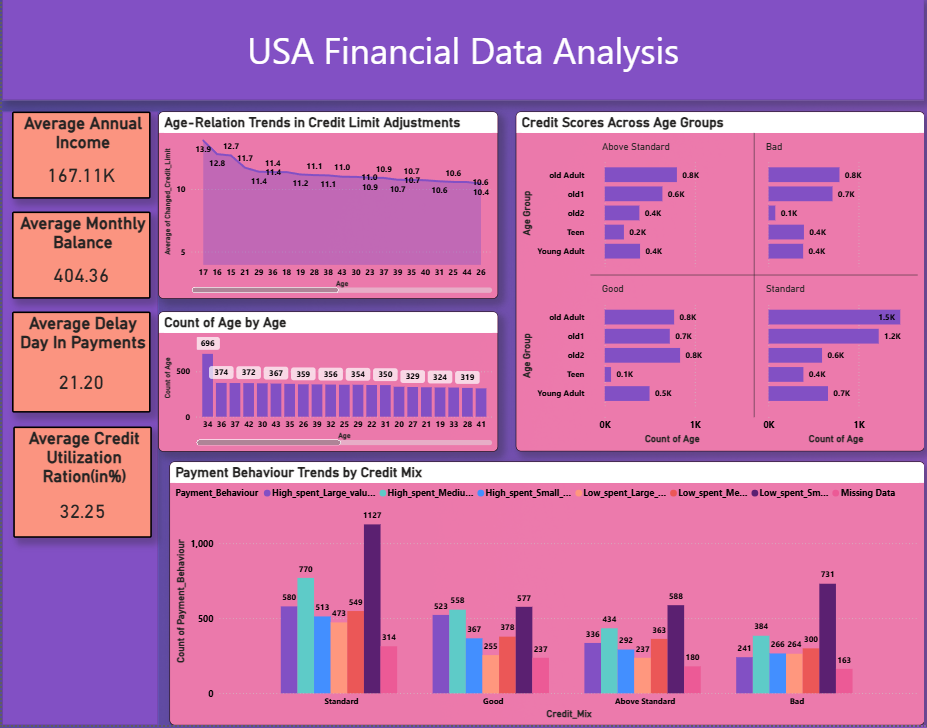

Layout of this report page (visuals, bound fields, positions):
{"tool":"powerbi","page":{"name":"Page 1","canvas":[1400,1100],"ordinal":0},"visuals":[{"type":"shape","box":[0,14.9,1378.7,151.3],"z":0},{"type":"shape","box":[0,183.1,233.5,917.3],"z":1000},{"type":"card","title":"Average Annual Income","fields":{"Values":["Avg(combined_df.Annual_Income)"]},"box":[14.9,183.1,207.4,130.8],"z":2000},{"type":"card","title":"Average Monthly Balance","fields":{"Values":["Avg(combined_df.Monthly_Balance)"]},"box":[14.9,332.5,207.4,130.8],"z":3000},{"type":"card","title":"Average Delay Day In Payments","fields":{"Values":["Avg(combined_df.Delay_from_due_date)"]},"box":[14.9,482,207.4,151.3],"z":4000},{"type":"card","title":"Average Credit Utilization Ration(in%)","fields":{"Values":["Avg(combined_df.Credit_Utilization_Ratio)"]},"box":[16.8,653.9,207.4,166.3],"z":5000},{"type":"lineChart","title":"Age-Relation Trends in Credit Limit Adjustments","fields":{"Y":["Avg(combined_df.Changed_Credit_Limit)"],"Category":["combined_df.Age"]},"box":[233.5,183.1,508.2,280.2],"z":6000},{"type":"lineClusteredColumnComboChart","fields":{"Y":["CountNonNull(combined_df.Age)"],"Category":["combined_df.Age"]},"box":[233.5,482,508.2,209.2],"z":7000},{"type":"clusteredBarChart","title":"Credit Scores Across Age Groups ","fields":{"Category":["combined_df.Age Group "],"Y":["CountNonNull(combined_df.Age)"],"Rows":["combined_df.Credit_Mix"]},"box":[767.8,183.1,610.9,508.2],"z":8000},{"type":"clusteredColumnChart","title":"Payment Behaviour Trends by Credit Mix","fields":{"Category":["combined_df.Credit_Mix"],"Y":["CountNonNull(combined_df.Payment_Behaviour)"],"Series":["combined_df.Payment_Behaviour"]},"box":[250.3,706.2,1128.4,394.2],"z":9000}]}

Visuals, with their boxes in screenshot pixels (x1, y1, x2, y2), scaled from the page's 1400x1100 canvas onto the 927x728 screenshot:
shape: [left=0, top=10, right=913, bottom=110]
shape: [left=0, top=121, right=155, bottom=727]
"Average Annual Income" card: [left=10, top=121, right=147, bottom=208]
"Average Monthly Balance" card: [left=10, top=220, right=147, bottom=307]
"Average Delay Day In Payments" card: [left=10, top=319, right=147, bottom=419]
"Average Credit Utilization Ration(in%)" card: [left=11, top=433, right=148, bottom=543]
"Age-Relation Trends in Credit Limit Adjustments" lineChart: [left=155, top=121, right=491, bottom=307]
lineClusteredColumnComboChart - CountNonNull(combined_df.Age) x combined_df.Age: [left=155, top=319, right=491, bottom=457]
"Credit Scores Across Age Groups " clusteredBarChart: [left=508, top=121, right=913, bottom=458]
"Payment Behaviour Trends by Credit Mix" clusteredColumnChart: [left=166, top=467, right=913, bottom=727]
